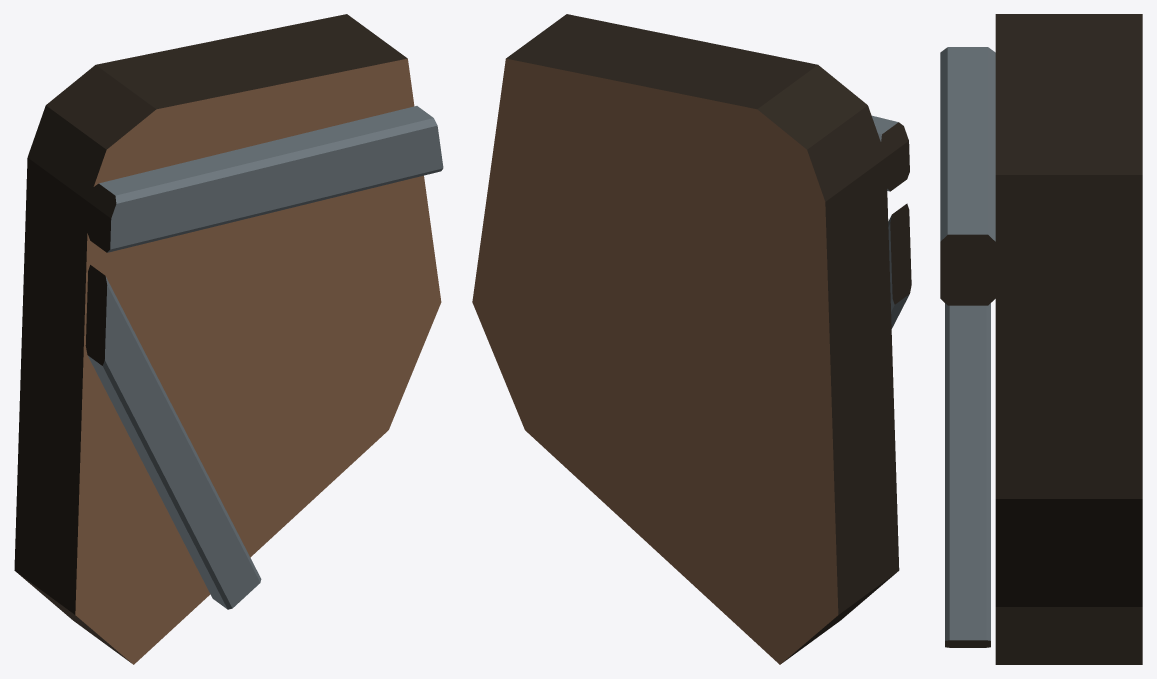
Rendered from SM_DoorShard_02_41.fbx.
3 renders of one model, left to right at view 1: azimuth 30°, elevation 25°; view 2: azimuth 150°, elevation 25°; view 3: azimuth 270°, elevation 25°, orthographic. The views are drawn at different scales.
Visible parts, largest first — view 1: SM_DoorShard_02_41; view 2: SM_DoorShard_02_41; view 3: SM_DoorShard_02_41.
Boxes of the visible parts, x1,y1,x2,y2 form: SM_DoorShard_02_41: (14,14,443,664); SM_DoorShard_02_41: (472,14,911,664); SM_DoorShard_02_41: (940,14,1142,664).
Size of the model in its own units: 55.54 by 22 by 79.77.
